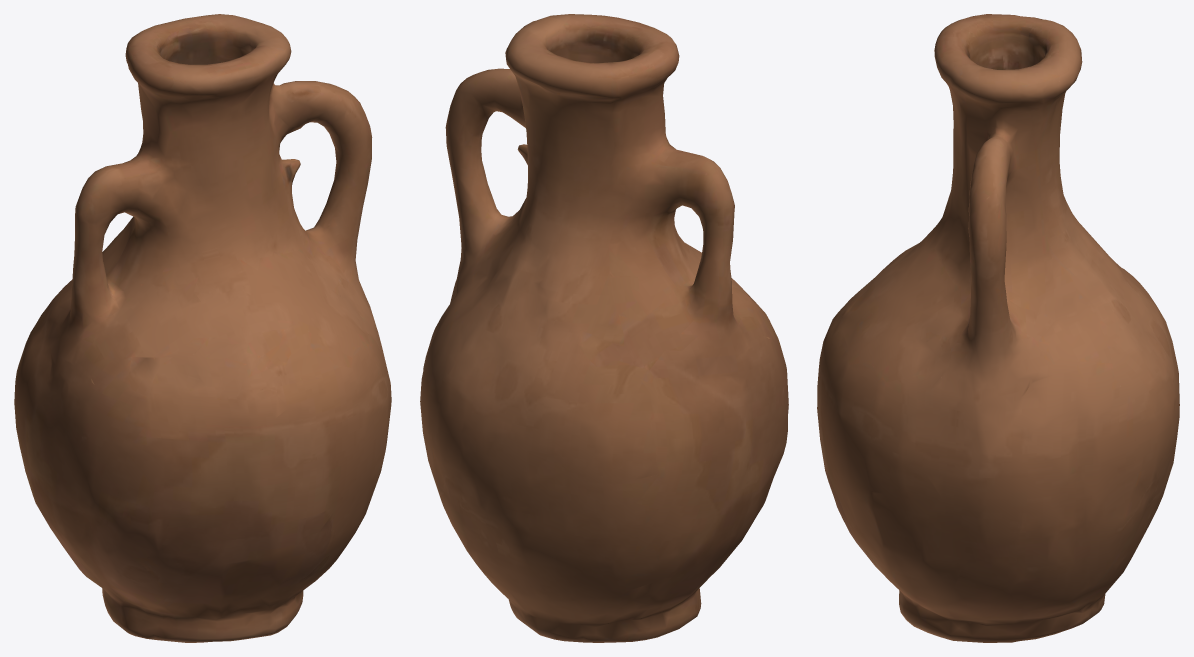
The model's file is PotJug.glb.
3 renders of one model, left to right at view 1: azimuth 30°, elevation 25°; view 2: azimuth 150°, elevation 25°; view 3: azimuth 270°, elevation 25°, orthographic.
Parts seen in each view (by area): view 1: PotJug; view 2: PotJug; view 3: PotJug.
Boxes of the visible parts, x1,y1,x2,y2 form: PotJug: [14, 14, 391, 642]; PotJug: [420, 14, 788, 642]; PotJug: [817, 14, 1179, 642].
Size of the model in its own units: 0.3767 by 0.6479 by 0.369.
1 material, 1 textured.
